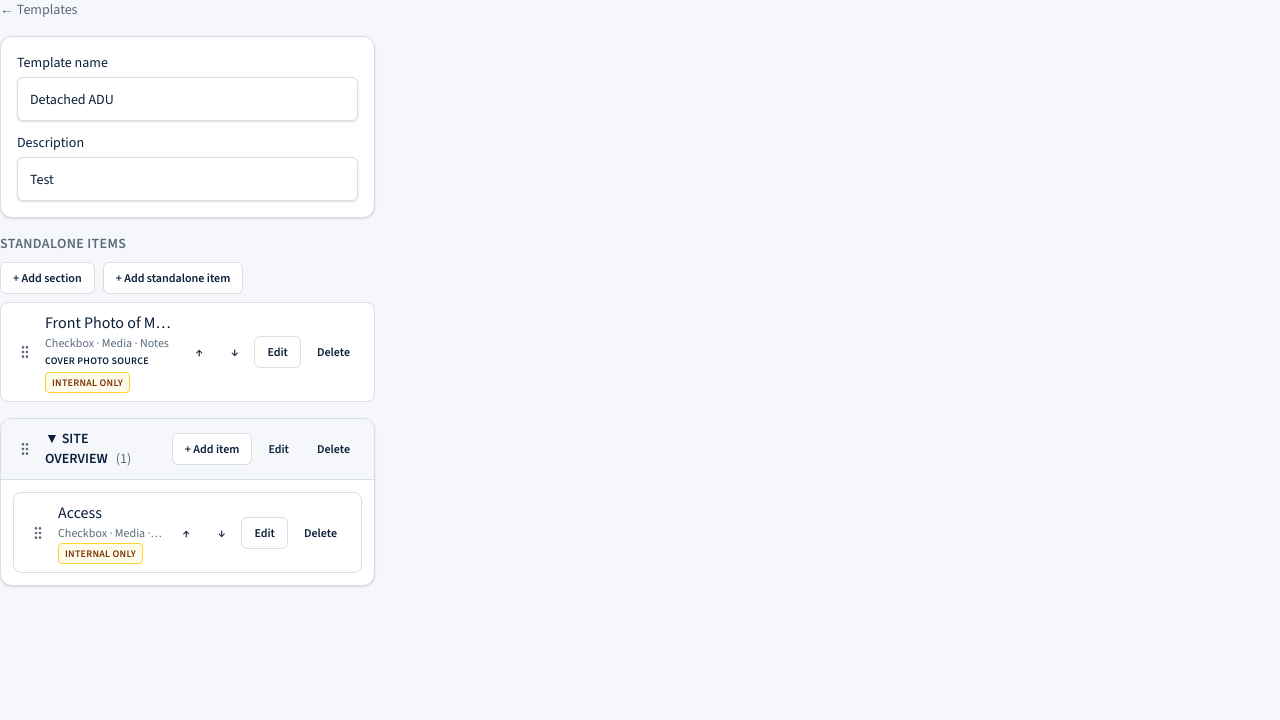
Scenario: template editor compact + modal › uses compact rows without window.prompt/confirm and opens edit modal
Expected: the text "Front Photo of Main House" is shown, top-left (45, 311), bottom-right (176, 335)
Expected: the text "Cover photo source" is shown, top-left (45, 353), bottom-right (149, 368)
Click the button "Edit" below "Standalone items" at (278, 352), box top-left (254, 336), bottom-right (301, 368)
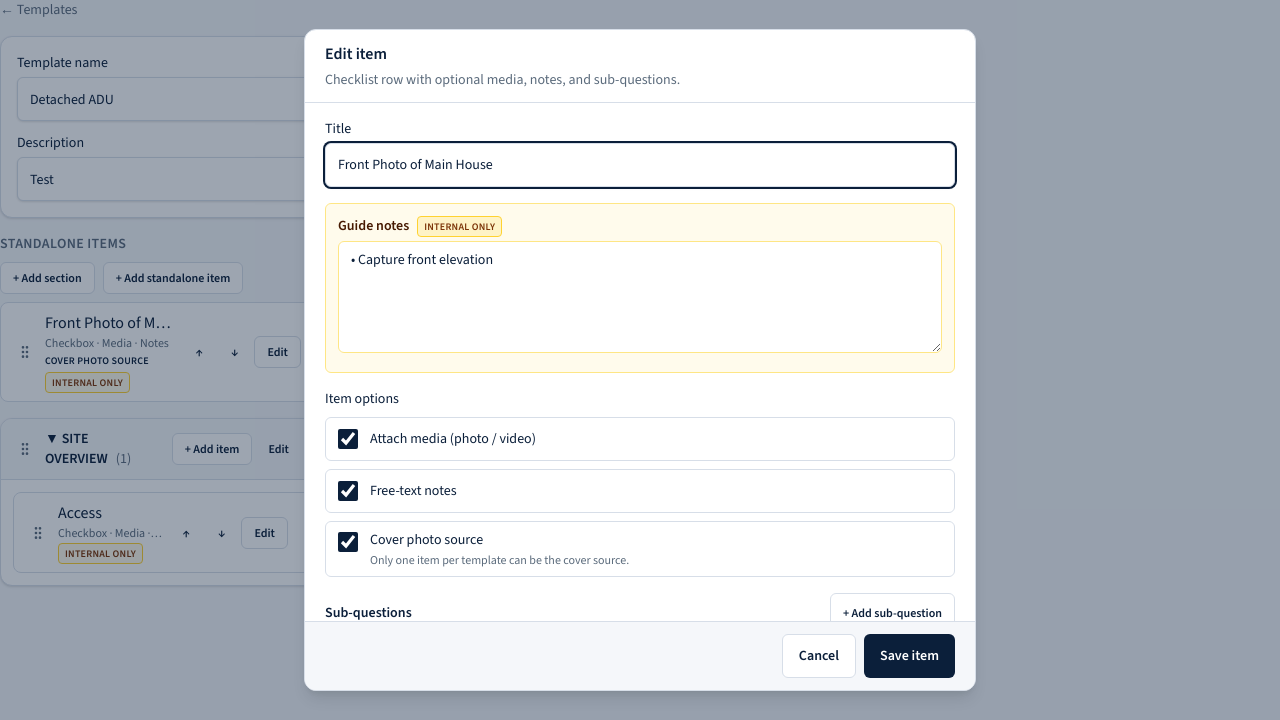
Expected: the dialog is shown, top-left (304, 29), bottom-right (976, 691)
Expected: the field labelled "Title" is shown, top-left (325, 143), bottom-right (955, 187)
Expected: the text box labelled "Guide notes" is shown, top-left (338, 241), bottom-right (942, 353)
